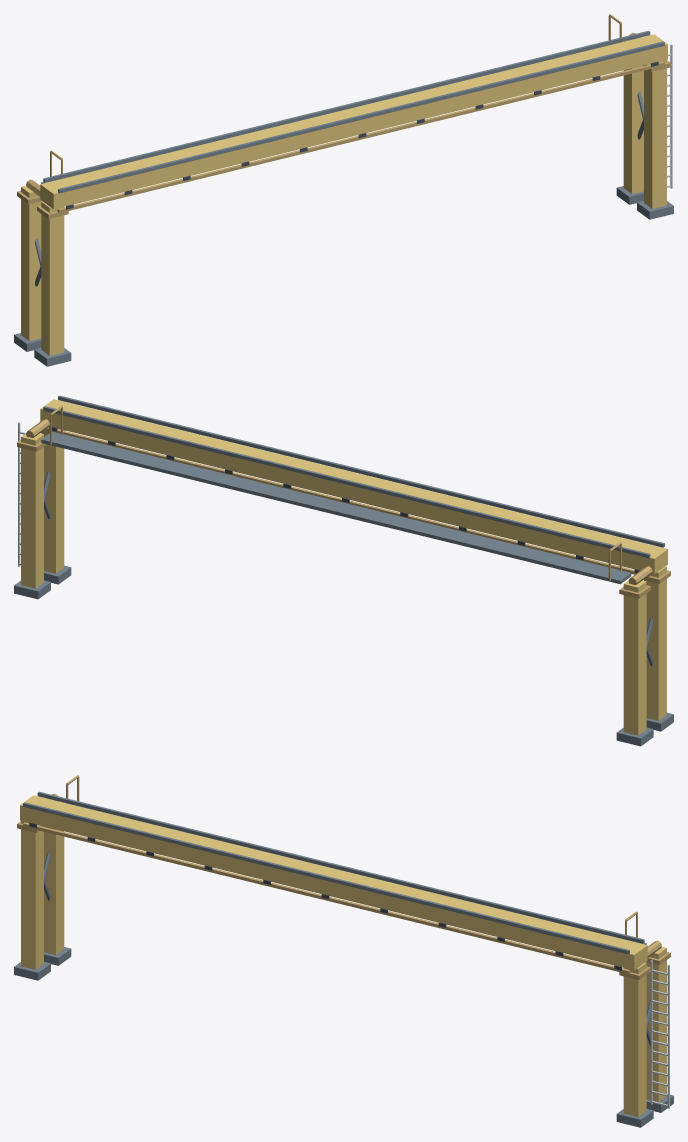
File: grua_portico.glb
The picture shows the model from 3 angles, top to bottom: view 1: azimuth 30°, elevation 25°; view 2: azimuth 150°, elevation 25°; view 3: azimuth 330°, elevation 25°; orthographic projection.
Parts seen in each view (by area): view 1: grua_portico; view 2: grua_portico; view 3: grua_portico.
Part boxes in pixels (x1,y1,x2,y2): grua_portico: (14, 14, 673, 366); grua_portico: (14, 395, 673, 746); grua_portico: (14, 775, 673, 1127).
Bounding box in the file's own units: 21.9 × 6.07 × 2.08.
